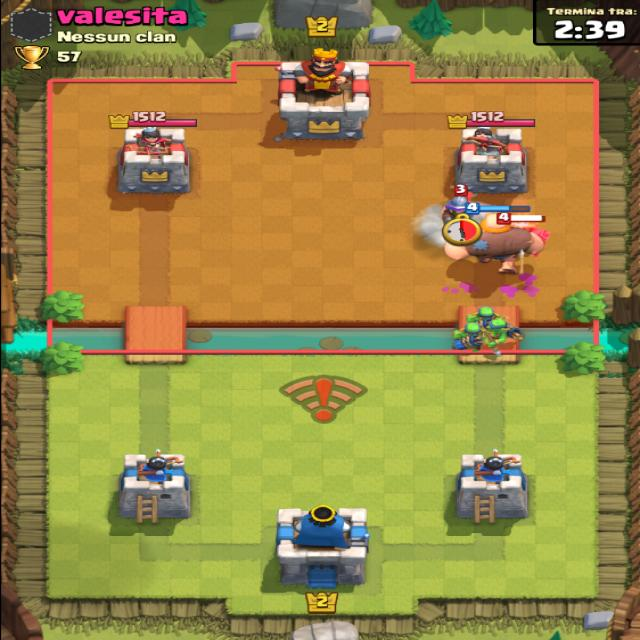Enemy-Musketeer: (444, 203, 554, 270)
Player-SpearGoblin: (482, 317, 526, 356), (450, 322, 491, 358), (468, 310, 502, 327)
